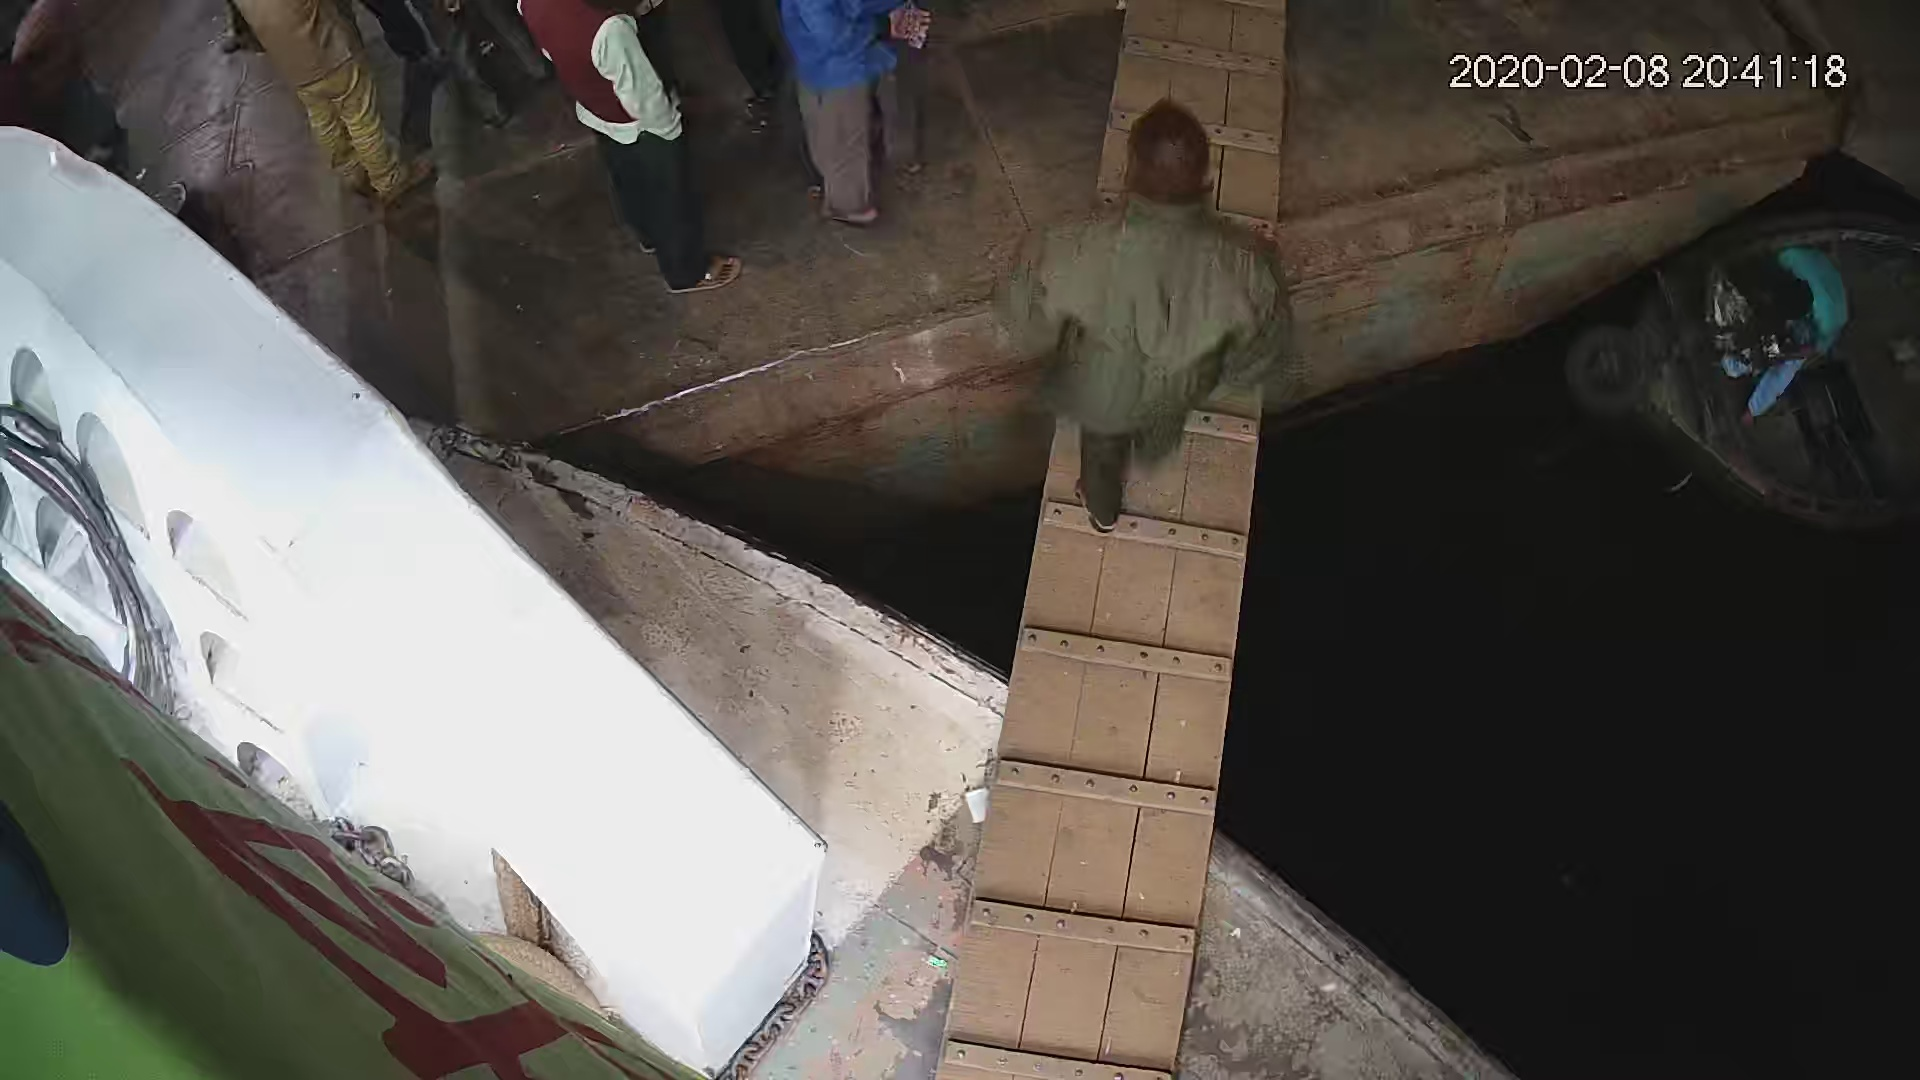person: (990, 97, 1304, 541), (504, 7, 744, 299), (1702, 236, 1852, 430)
